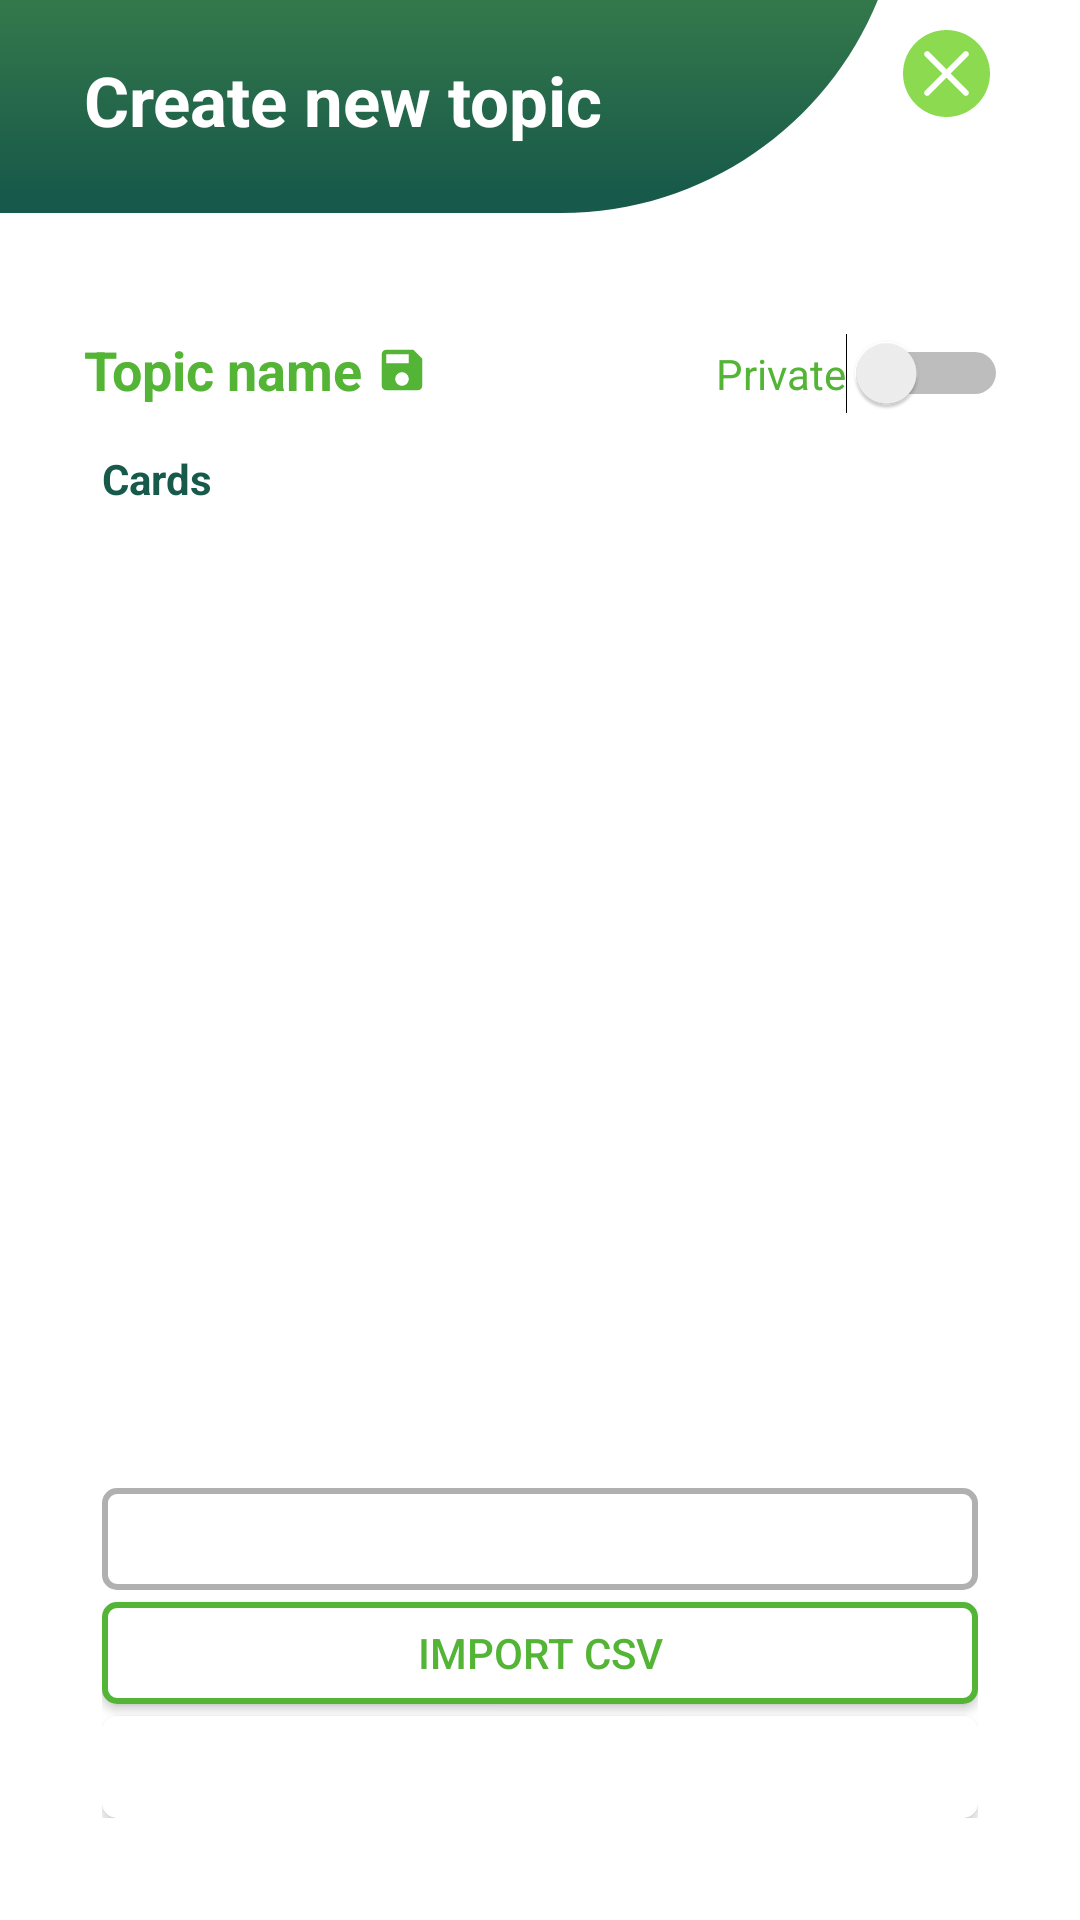

Point at icon controls on the screen. Image size 1080 x 1920, points as (x=x, y=y).
cancle: (x=946, y=73)
